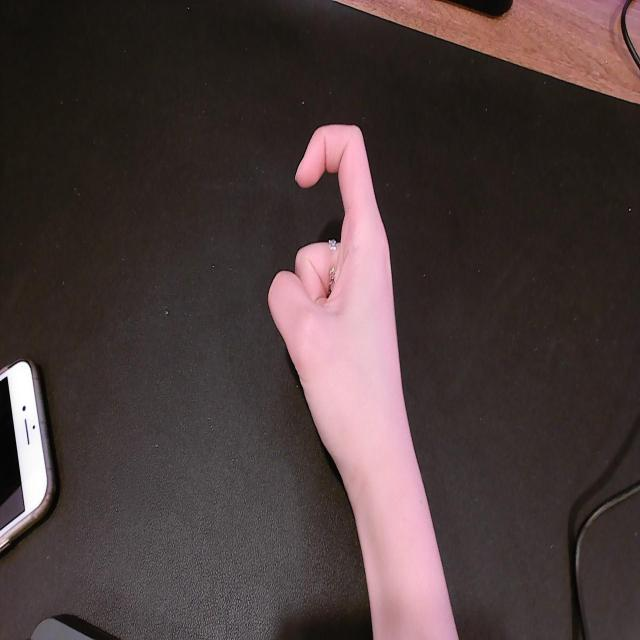X: (265, 117, 405, 469)
